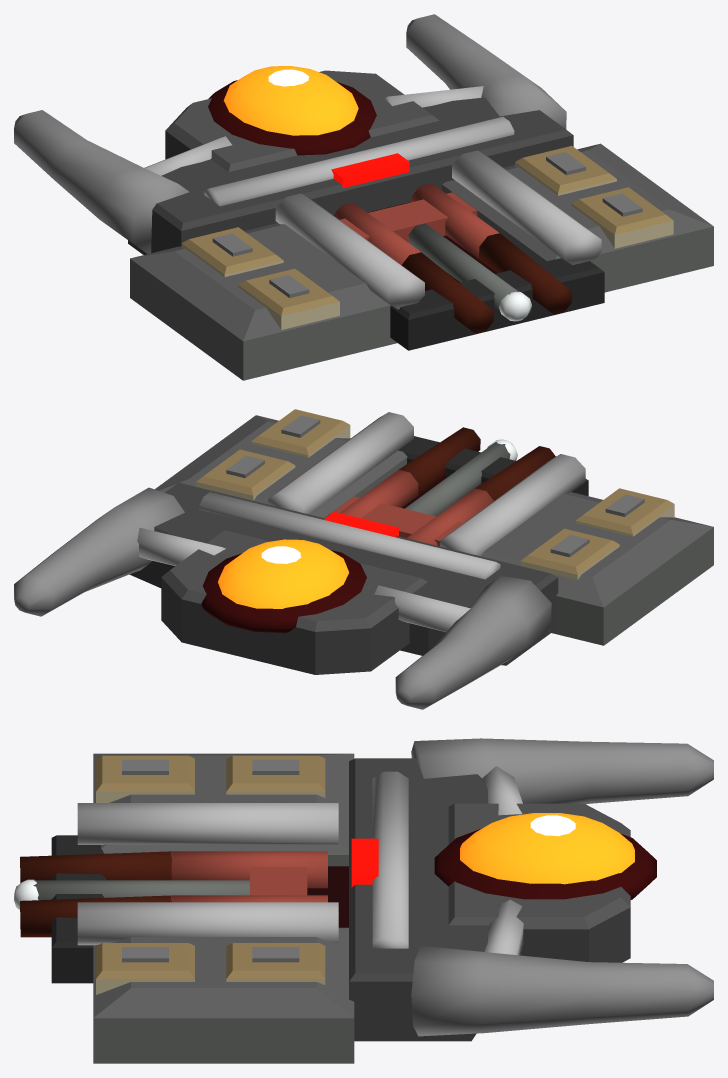
File: newshk-278.glb
3 views of the same model, one above another, from view 1: azimuth 30°, elevation 25°; view 2: azimuth 150°, elevation 25°; view 3: azimuth 270°, elevation 25° (orthographic). The views are drawn at different scales.
Parts seen in each view (by area): view 1: newshk-278; view 2: newshk-278; view 3: newshk-278.
Boxes of the visible parts, x1=… form: newshk-278: x1=14, y1=14, x2=713, y2=380; newshk-278: x1=14, y1=409, x2=713, y2=709; newshk-278: x1=14, y1=738, x2=713, y2=1063.
Size of the model in its own units: 2 by 0.41 by 2.24.
